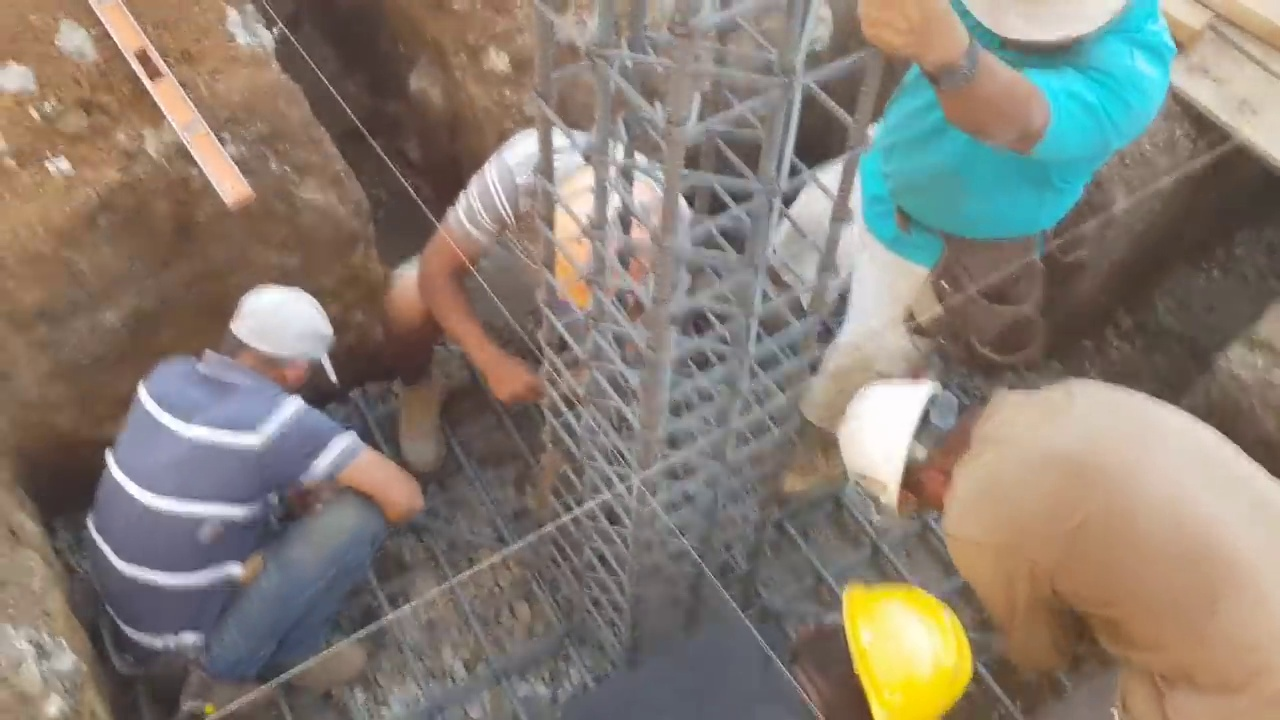helmet: (813, 585, 979, 708), (845, 372, 951, 528), (543, 186, 652, 308)
helmet-off: (211, 286, 339, 405)
helmet-on: (775, 576, 979, 719), (840, 365, 1003, 527)
person: (768, 0, 1177, 484), (841, 370, 1279, 720), (82, 281, 424, 703), (392, 131, 698, 479), (548, 573, 974, 717)
